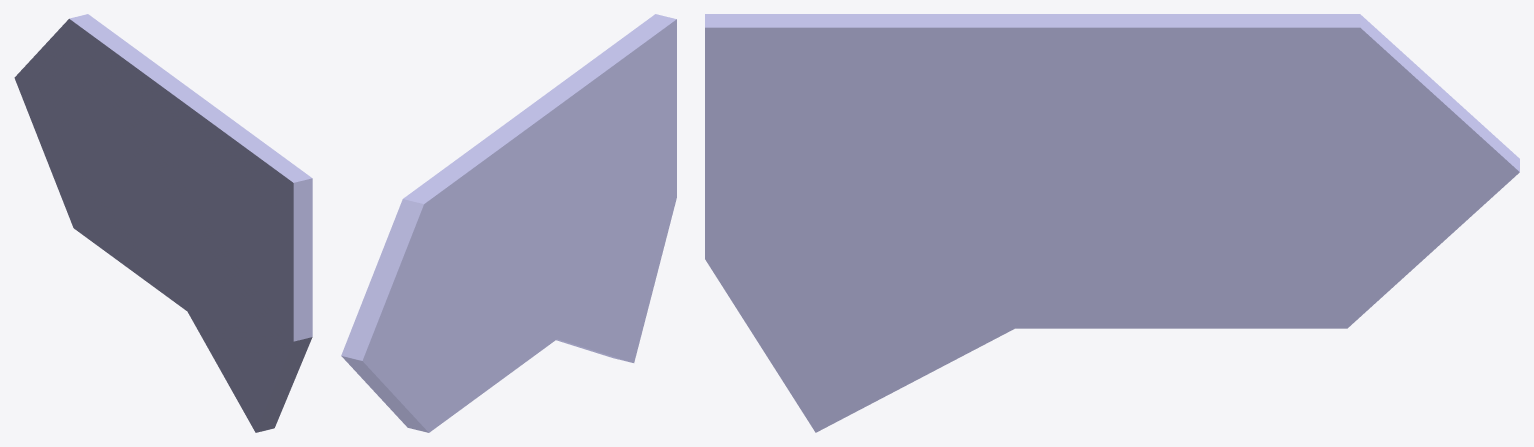
The model's file is 10 Plantilla_C.fbx.
The picture shows the model from 3 angles, left to right: view 1: azimuth 30°, elevation 25°; view 2: azimuth 150°, elevation 25°; view 3: azimuth 270°, elevation 25°; orthographic projection. The views are drawn at different scales.
Parts seen in each view (by area): view 1: PartBody; view 2: PartBody; view 3: PartBody.
Boxes of the visible parts, x1=… form: PartBody: x1=14, y1=14, x2=312, y2=432; PartBody: x1=341, y1=14, x2=676, y2=432; PartBody: x1=705, y1=14, x2=1519, y2=432.
Size of the model in its own units: 0.3937 by 5.51 by 10.04.
